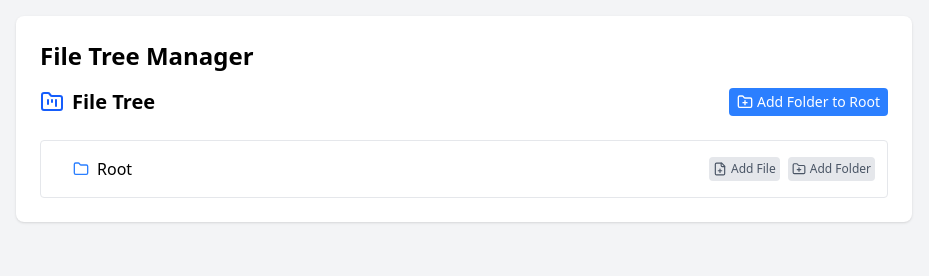
Test: Create Operations › should create a new folder under the root
The width and height of the screenshot is (929, 276).
Step 1. Click the button "Add Folder" → click(831, 169), box [788,157,875,181]
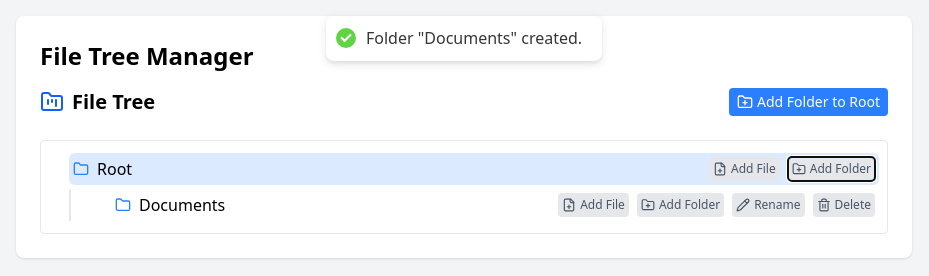
Result: the text "Documents" is shown at [139,193,225,217]
Result: the text "Folder \"Documents\" created." is shown at [366,28,582,49]
